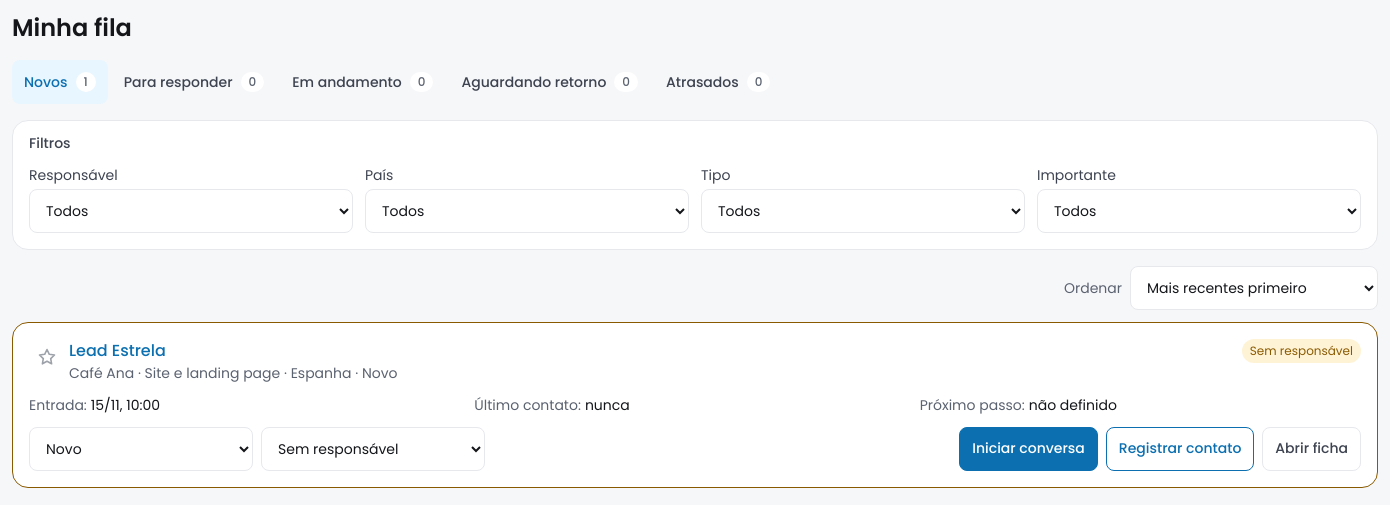
Scenario: Minha fila: ações rápidas › marca um lead como importante pela estrela e destaca o cartão
Click the button named "Marcar Lead Estrela como importante". click: point(47, 357)
box: 29,339 -> 65,375
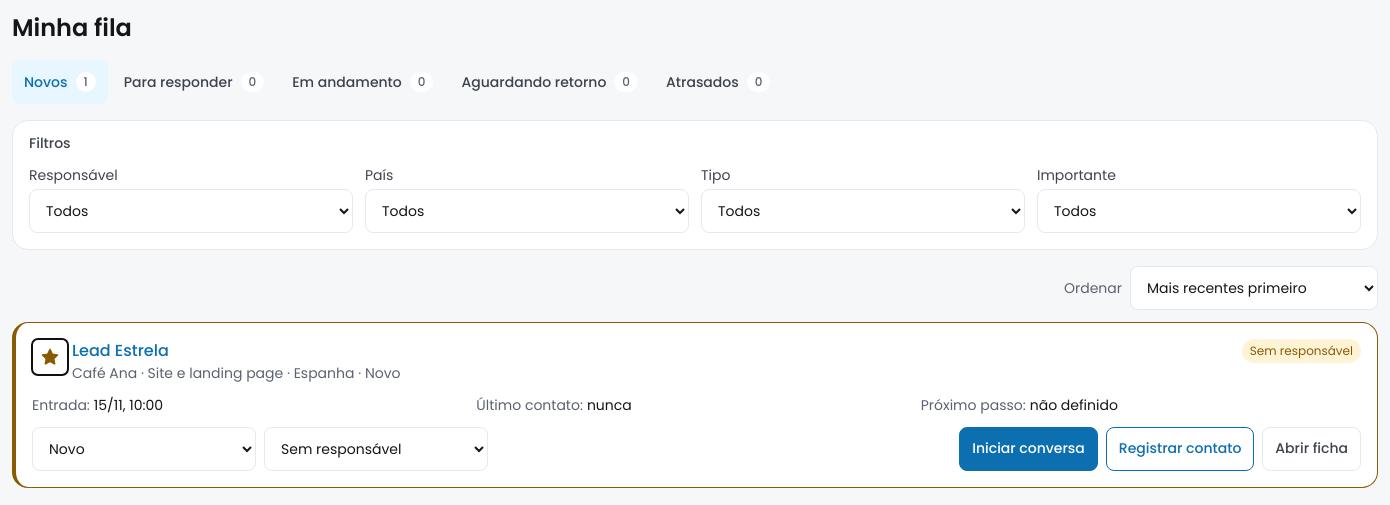
Expected: the button named "Tirar a marca de importante de Lead Estrela" is pressed, 32,339 -> 68,375
